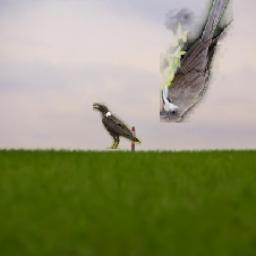Crow: (92, 104, 140, 150)
Cuckoo: (159, 0, 232, 124)
